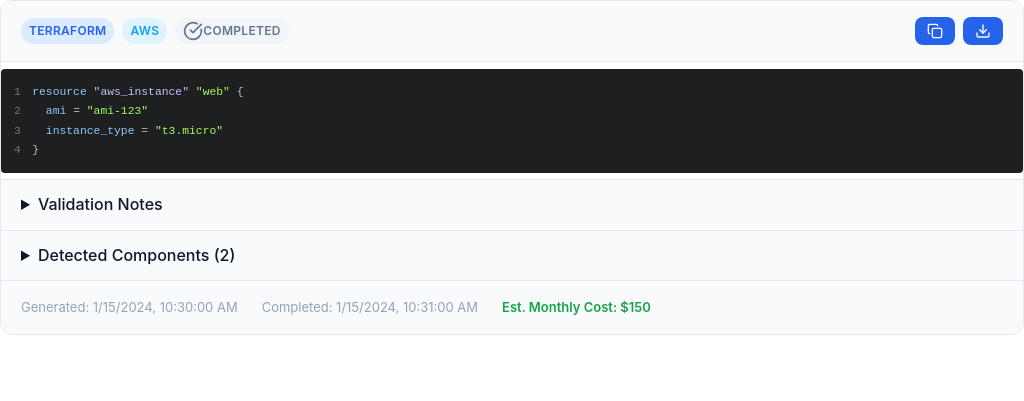
TemplateDisplay › shows components list
Click the heading "Detected Components (2)": point(137, 255) [38,245,235,265]
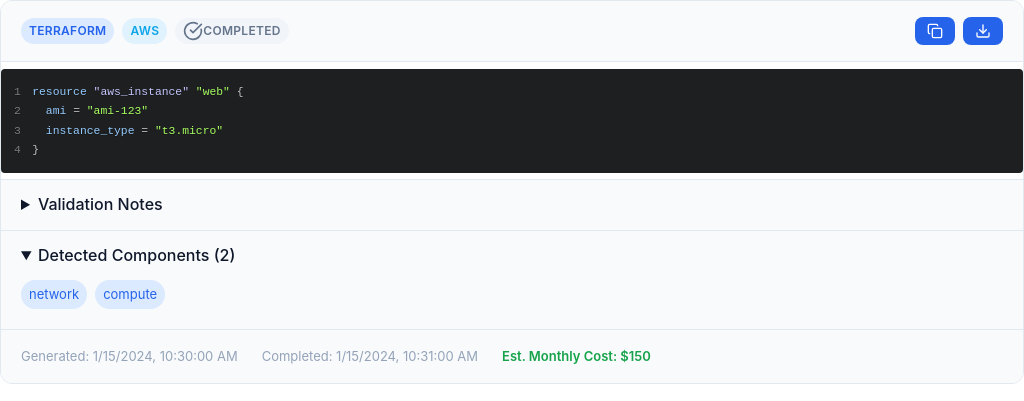
Now the list item "network" is shown, box [21,280,87,309]
Now the list item "compute" is shown, box [95,280,165,309]
